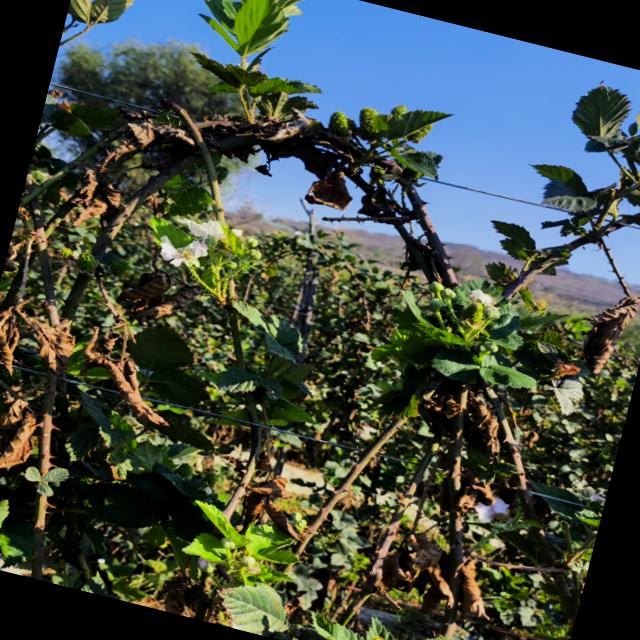boton: (483, 305, 500, 320), (428, 298, 447, 311), (220, 537, 235, 550), (239, 555, 255, 567), (429, 281, 443, 294), (441, 288, 456, 300), (245, 237, 258, 247), (249, 250, 261, 259), (225, 261, 237, 269)
flor: (160, 235, 207, 266), (179, 218, 225, 239)
